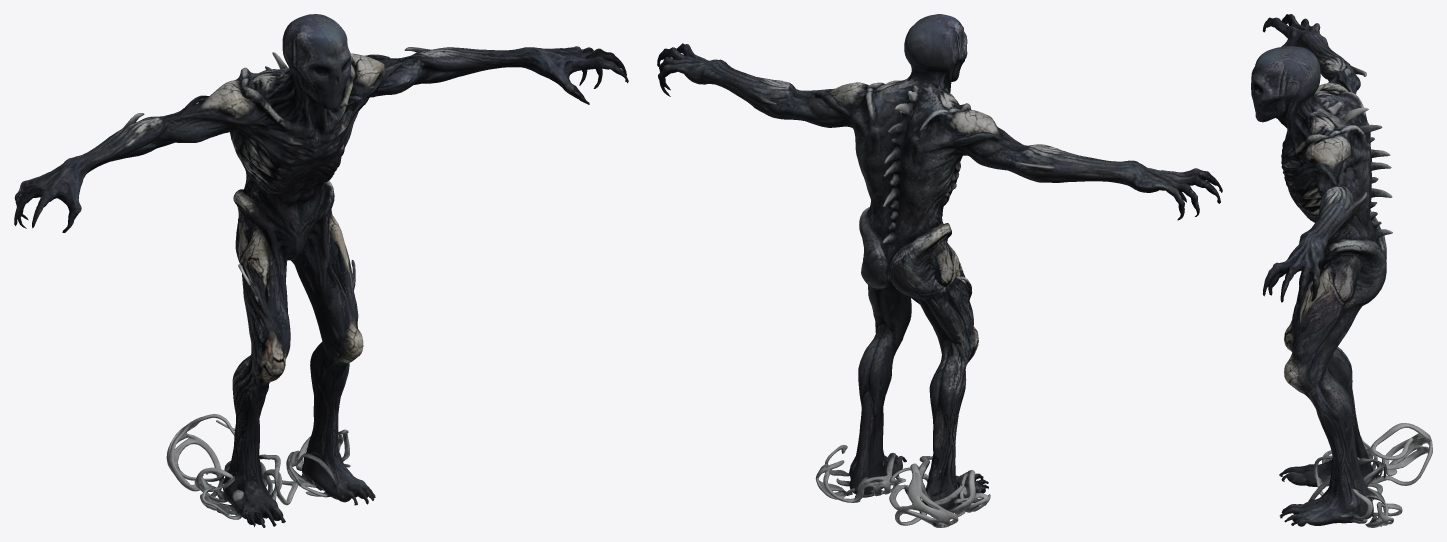
File: tripo_convert_d07cd84c-630f-4eb3-9d46-10a1829a38cc.fbx
The picture shows the model from 3 angles, left to right: view 1: azimuth 30°, elevation 25°; view 2: azimuth 150°, elevation 25°; view 3: azimuth 270°, elevation 25°; orthographic projection. The views are drawn at different scales.
Visible parts, largest first — view 1: tripo_node_d07cd84c; view 2: tripo_node_d07cd84c; view 3: tripo_node_d07cd84c.
Part boxes in pixels (x1,y1,x2,y2): tripo_node_d07cd84c: (14,14,628,527); tripo_node_d07cd84c: (657,14,1222,527); tripo_node_d07cd84c: (1251,14,1432,527).
Bounding box in the file's own units: 98.11 × 27.74 × 76.3.
Materials: 1 (1 with a texture image).
